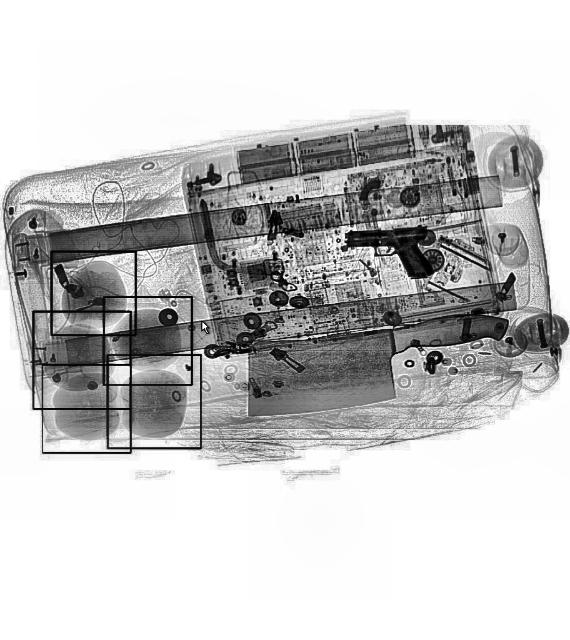Gun: (342, 224, 436, 282)
Knife: (239, 307, 514, 419)
